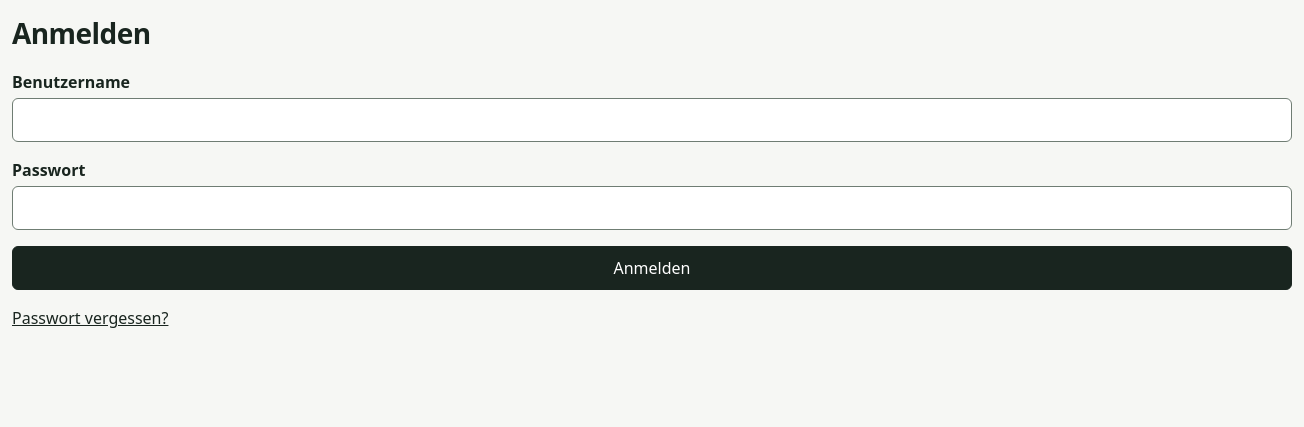
Test: shows one generic message for failed logins
Type "Alice" into the field labelled "Benutzername" at {"x": 652, "y": 120}, box [12, 98, 1292, 142]
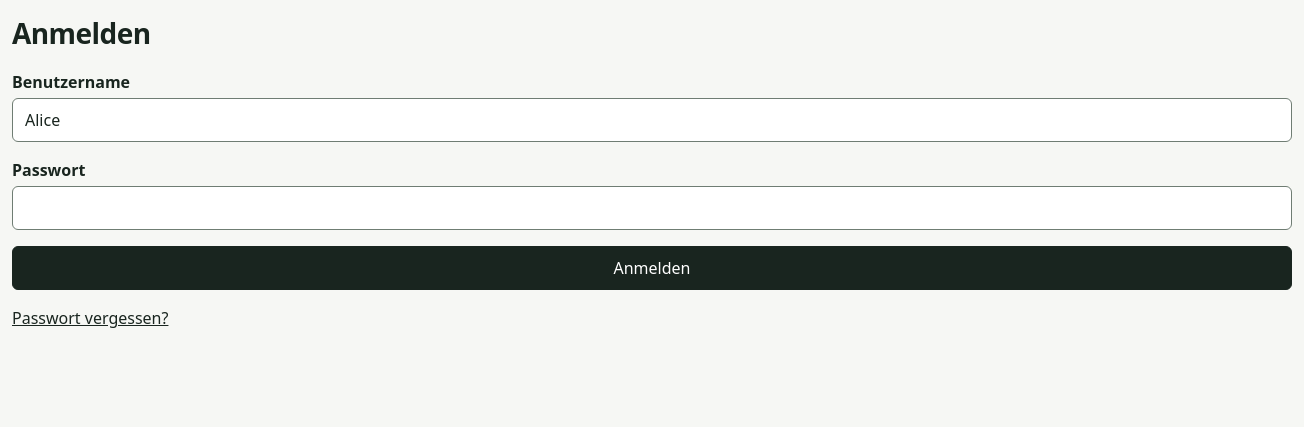
Type "correct horse battery" into the password field labelled "Passwort" at {"x": 652, "y": 208}, box [12, 186, 1292, 230]
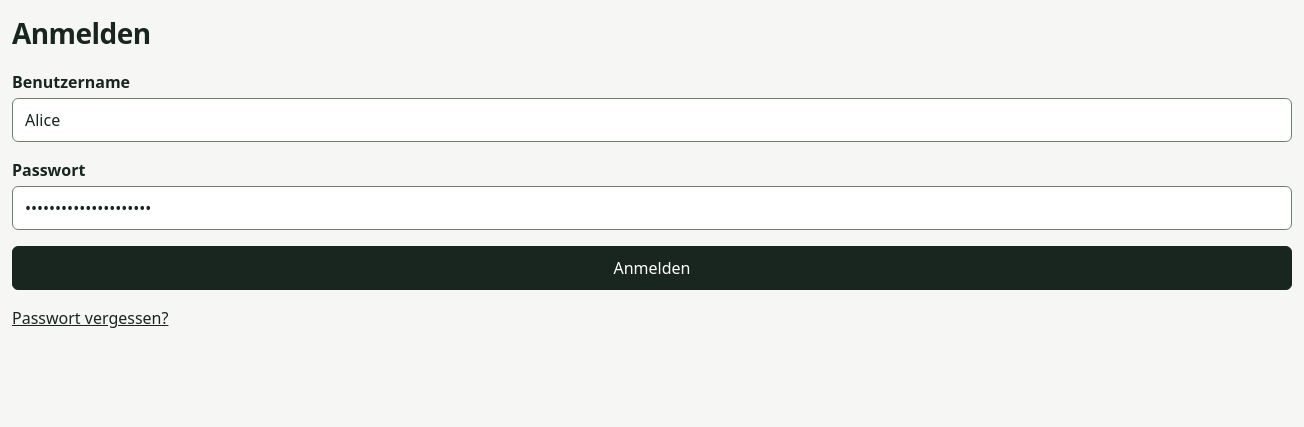
Submit the form, box [12, 70, 1292, 290]
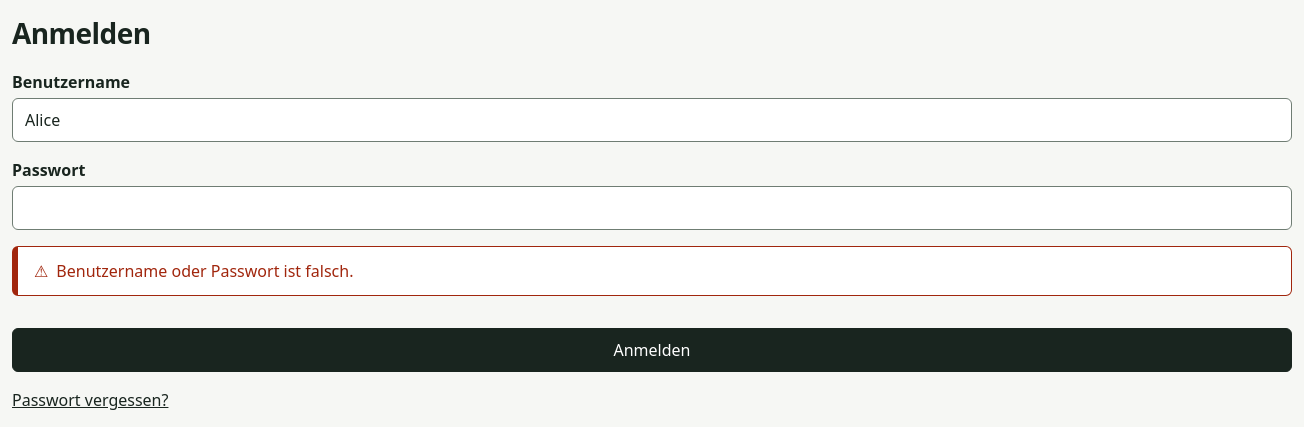
Expected: the message reads "Benutzername oder Passwort ist falsch.", [56, 260, 353, 282]
Expected: the password field labelled "Passwort" is empty, [12, 186, 1292, 230]
